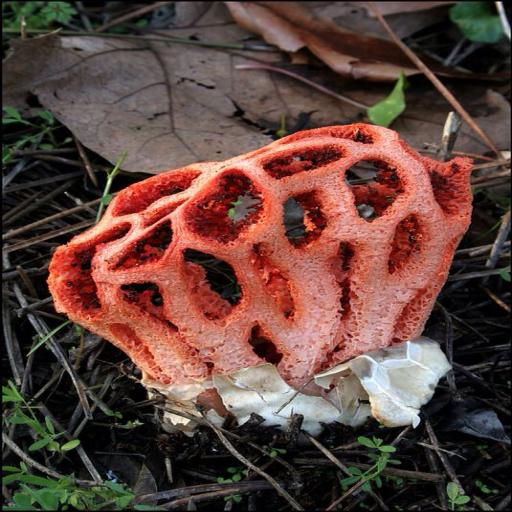Red Cage Fungus: (45, 122, 475, 437)
